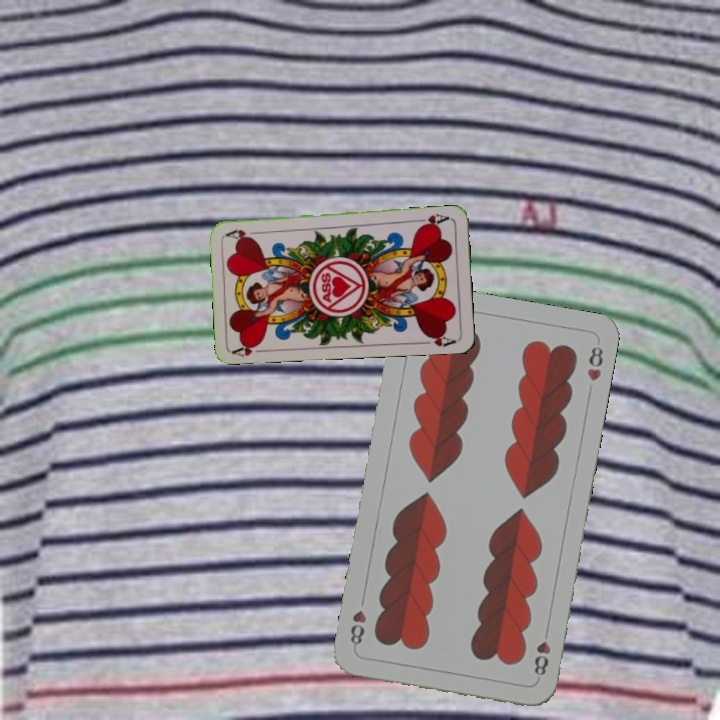H8: (530, 624, 553, 679)
HA: (412, 210, 452, 230), (230, 339, 270, 359)
